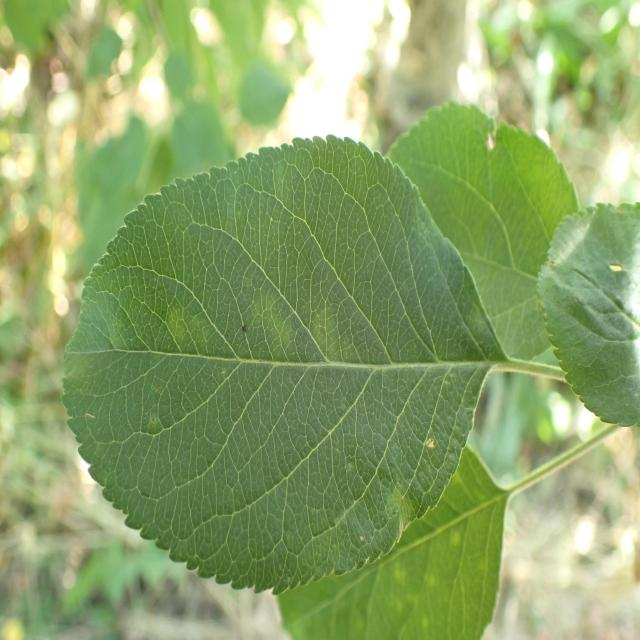scab: (68, 168, 472, 513)
